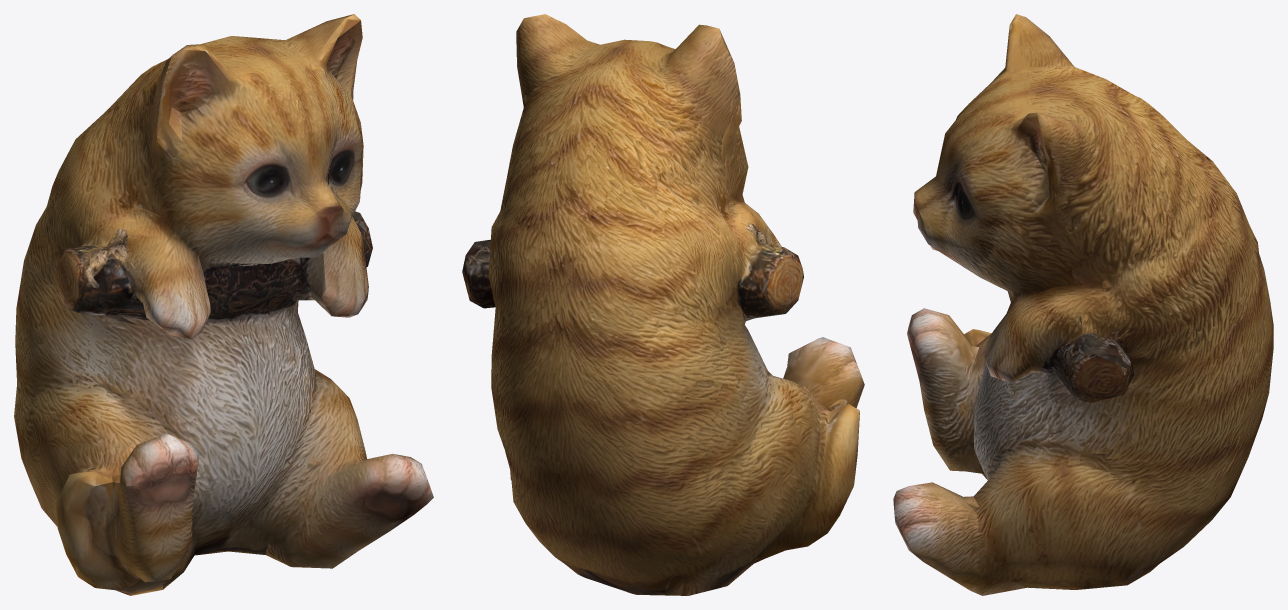
File: kitten_tan.glb
The picture shows the model from 3 angles, left to right: view 1: azimuth 30°, elevation 25°; view 2: azimuth 150°, elevation 25°; view 3: azimuth 270°, elevation 25°; orthographic projection. The views are drawn at different scales.
Parts seen in each view (by area): view 1: geo1; view 2: geo1; view 3: geo1.
Boxes of the visible parts, x1,y1,x2,y2 form: geo1: (14, 14, 433, 595); geo1: (462, 14, 864, 595); geo1: (893, 14, 1273, 595).
Size of the model in its own units: 0.00101 by 0.00148 by 0.000977.
Materials: 1 (1 with a texture image).
